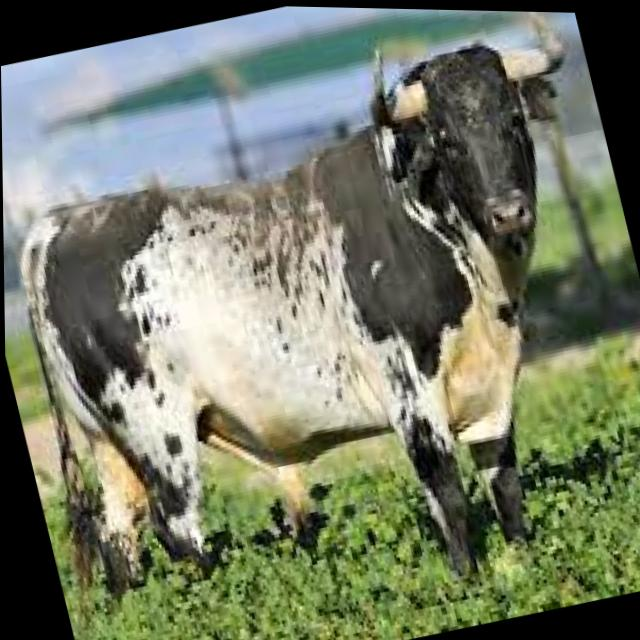cowFace: (325, 6, 620, 315)
